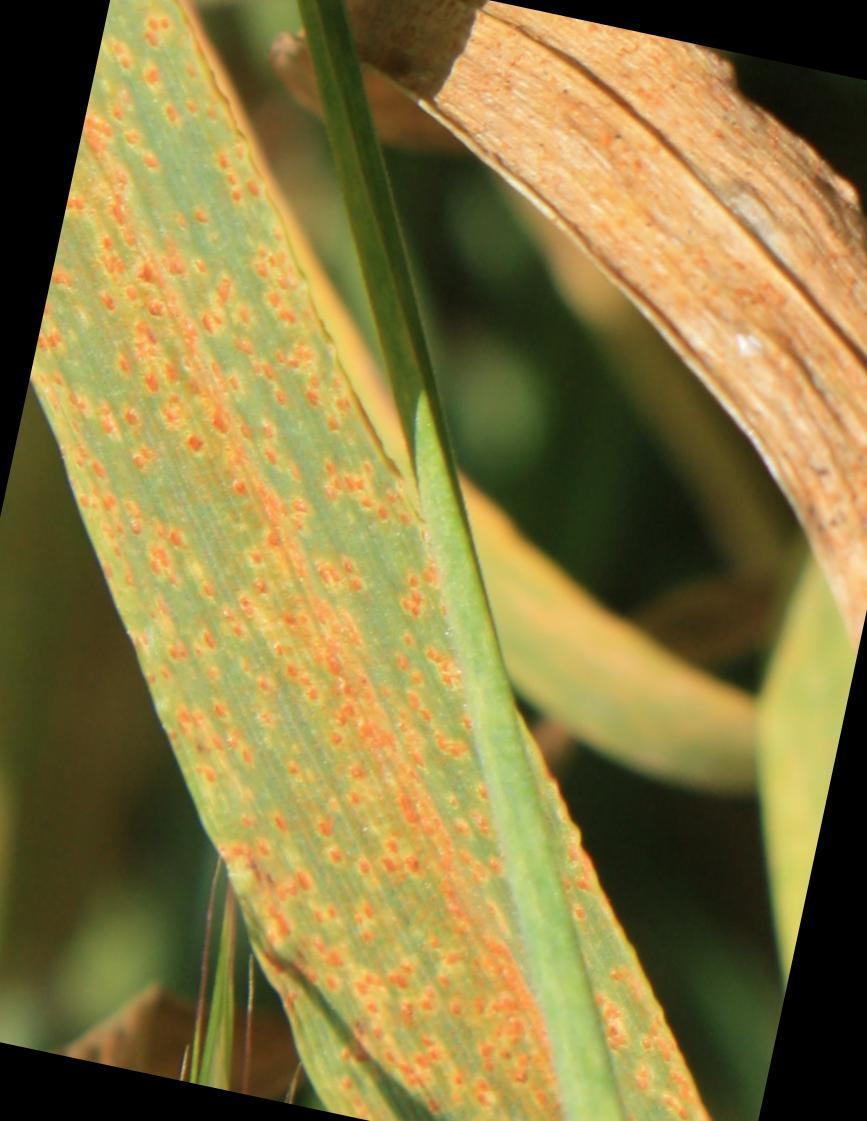Corn: (55, 0, 408, 748), (221, 549, 515, 1121)
